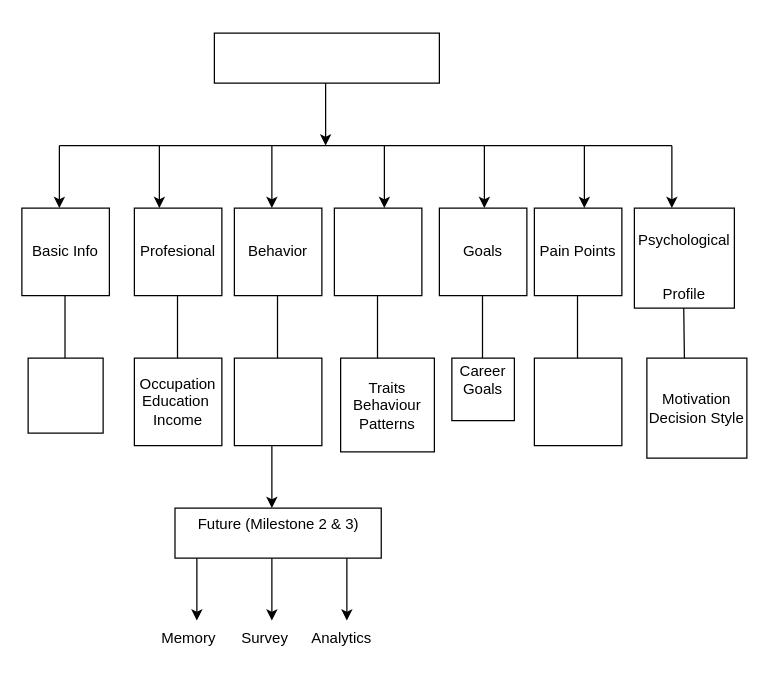
Image size: 769x693. Some labels were removed from this diagram. Each missing label, with the centre of its shape:
Challenges Frustrations: (577,401)
Lifestyle Tech Usage Buying Hab: (277,401)
Name Age Gender: (65,395)
Persona: (326,57)
Personality: (377,251)
